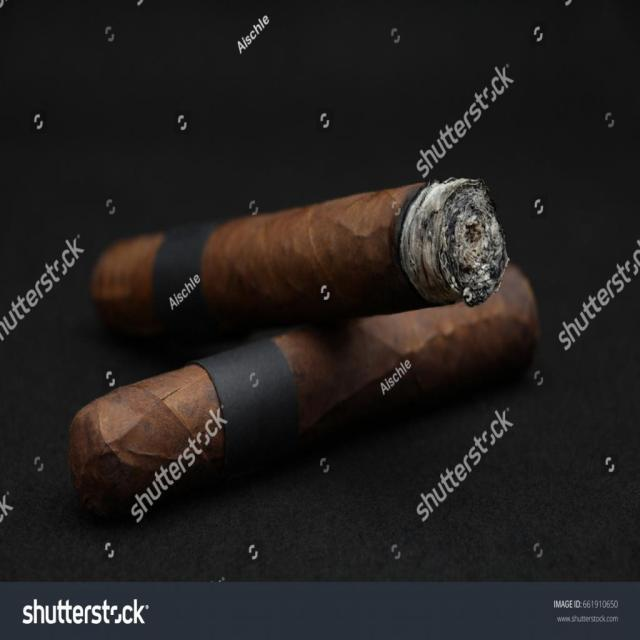smoking: (0, 0, 297, 94)
